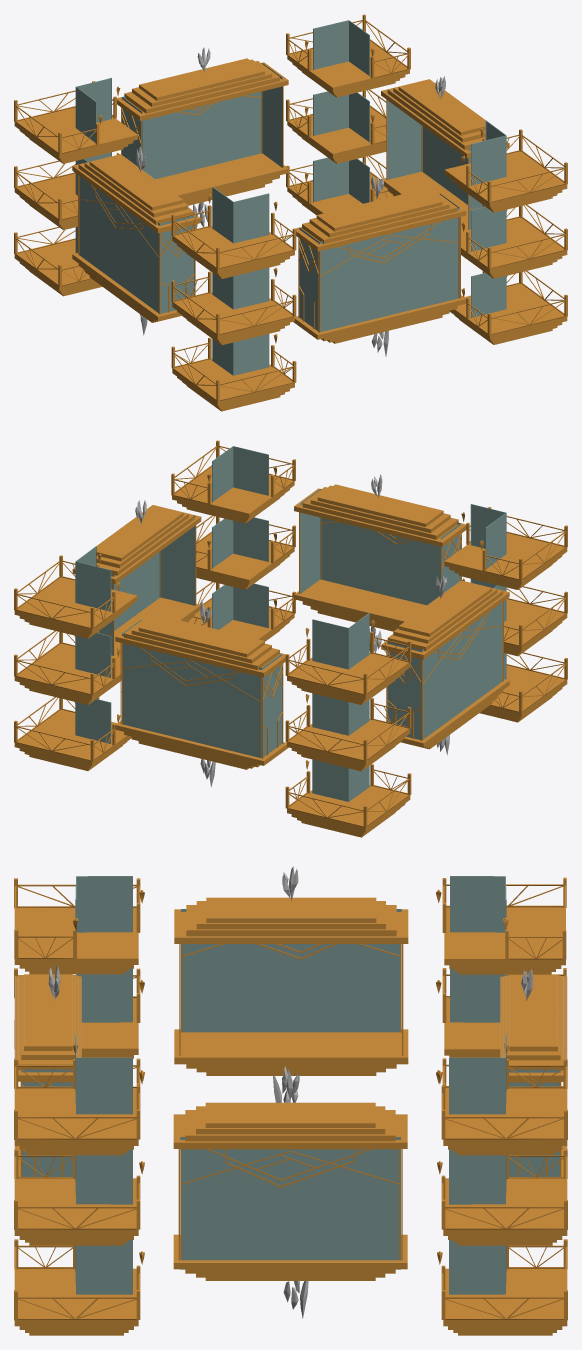
The model's file is ModularBuilding_Three.fbx.
3 renders of one model, top to bottom at view 1: azimuth 30°, elevation 25°; view 2: azimuth 150°, elevation 25°; view 3: azimuth 270°, elevation 25°, orthographic. The views are drawn at different scales.
Parts seen in each view (by area): view 1: ModularBuilding_Three; view 2: ModularBuilding_Three; view 3: ModularBuilding_Three.
Part boxes in pixels (<box>): ModularBuilding_Three: <box>14,14,567,411</box>; ModularBuilding_Three: <box>14,440,567,837</box>; ModularBuilding_Three: <box>14,866,567,1335</box>.
Size of the model in its own units: 2773 by 1431 by 2779.
